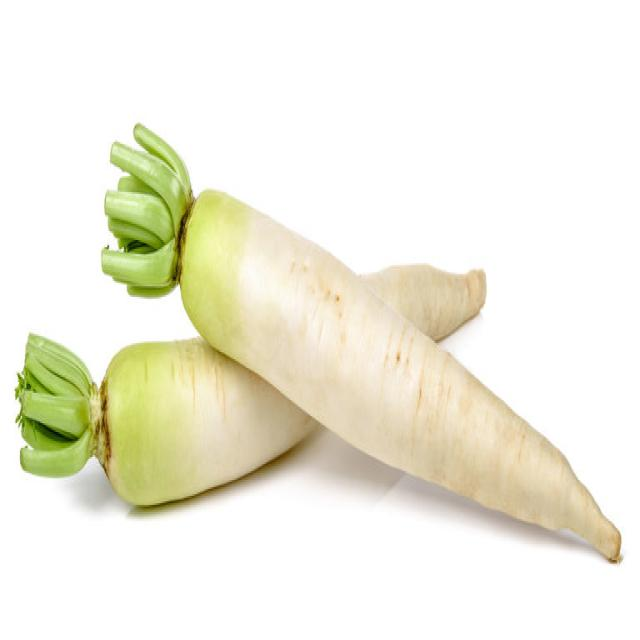Garlic: (16, 259, 487, 506)
Radish: (101, 119, 622, 564), (14, 331, 322, 508), (358, 262, 487, 342)
